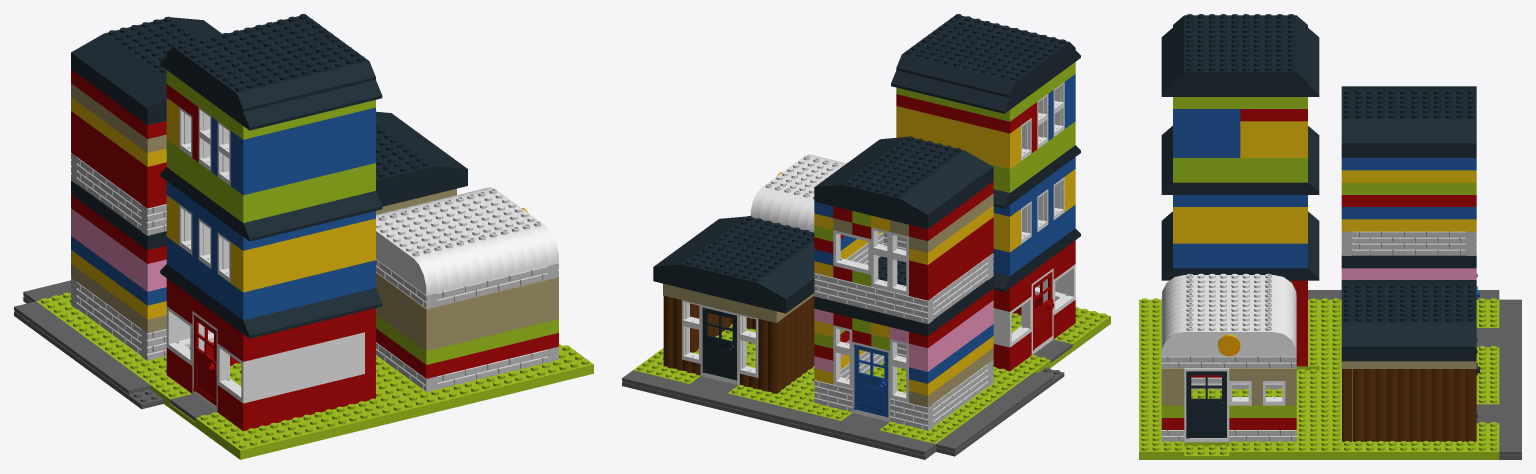
File: Block3-lod1.fbx
The picture shows the model from 3 angles, left to right: view 1: azimuth 30°, elevation 25°; view 2: azimuth 150°, elevation 25°; view 3: azimuth 270°, elevation 25°; orthographic projection. The views are drawn at different scales.
Parts seen in each view (by area): view 1: Material_26, Material_119, Material_1, Material_21, Material_23, Material_5, Material_208, Material_24, Material_199, Material_222; view 2: Material_26, Material_1, Material_21, Material_119, Material_199, Material_24, Material_208, Material_23, Material_192, Material_5, Material_222; view 3: Material_26, Material_119, Material_1, Material_23, Material_24, Material_192, Material_208, Material_199, Material_21, Material_5, Material_222, Material_191.
Part boxes in pixels (x1=…): Material_26: x1=71, y1=14, x2=467, y2=338; Material_119: x1=36, y1=70, x2=593, y2=459; Material_1: x1=166, y1=107, x2=558, y2=412; Material_21: x1=71, y1=69, x2=558, y2=431; Material_23: x1=71, y1=107, x2=375, y2=320; Material_5: x1=71, y1=83, x2=558, y2=350; Material_208: x1=71, y1=153, x2=558, y2=392; Material_24: x1=71, y1=97, x2=375, y2=319; Material_199: x1=14, y1=280, x2=216, y2=421; Material_222: x1=71, y1=208, x2=166, y2=291; Material_26: x1=653, y1=14, x2=1080, y2=380; Material_1: x1=682, y1=82, x2=1075, y2=421; Material_21: x1=814, y1=94, x2=1075, y2=371; Material_119: x1=633, y1=62, x2=1110, y2=447; Material_199: x1=622, y1=339, x2=1072, y2=459; Material_24: x1=814, y1=106, x2=1075, y2=395; Material_208: x1=814, y1=232, x2=993, y2=430; Material_23: x1=814, y1=74, x2=1075, y2=417; Material_192: x1=663, y1=296, x2=814, y2=393; Material_5: x1=663, y1=193, x2=993, y2=407; Material_222: x1=814, y1=300, x2=993, y2=372; Material_26: x1=1161, y1=14, x2=1479, y2=438; Material_119: x1=1139, y1=97, x2=1499, y2=459; Material_1: x1=1161, y1=273, x2=1296, y2=442; Material_23: x1=1173, y1=109, x2=1479, y2=341; Material_24: x1=1173, y1=121, x2=1476, y2=243; Material_192: x1=1342, y1=369, x2=1476, y2=442; Material_208: x1=1161, y1=231, x2=1476, y2=441; Material_199: x1=1308, y1=290, x2=1521, y2=459; Material_21: x1=1161, y1=109, x2=1476, y2=429; Material_5: x1=1161, y1=361, x2=1476, y2=405; Material_222: x1=1341, y1=268, x2=1476, y2=279; Material_191: x1=1218, y1=334, x2=1240, y2=356.
Size of the model in its own units: 27.2 by 23.86 by 27.2.
